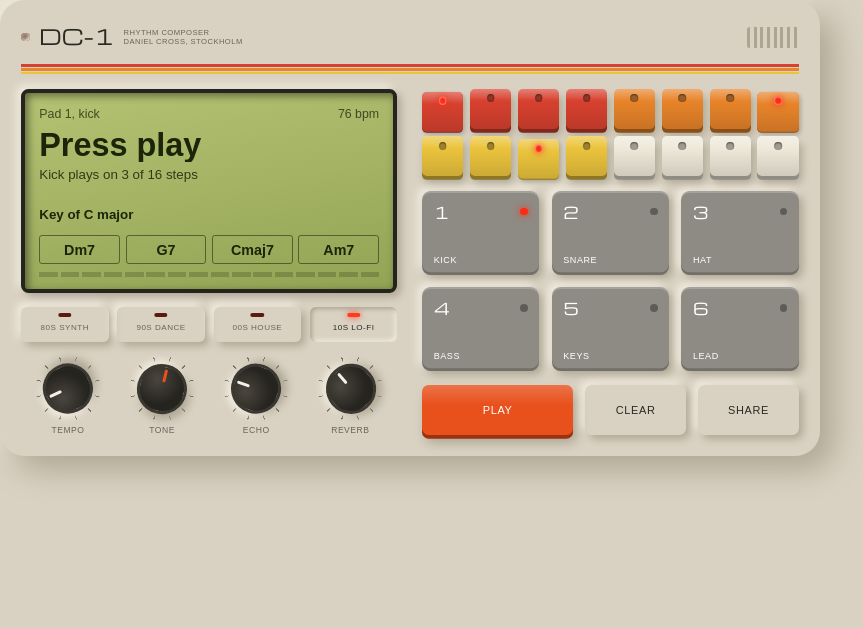
Test case: tapping a chord opens the chord tray with plain chords from the key
The width and height of the screenshot is (863, 628).
Click the button "G7" at (166, 250), box top-left (126, 235), bottom-right (206, 264)
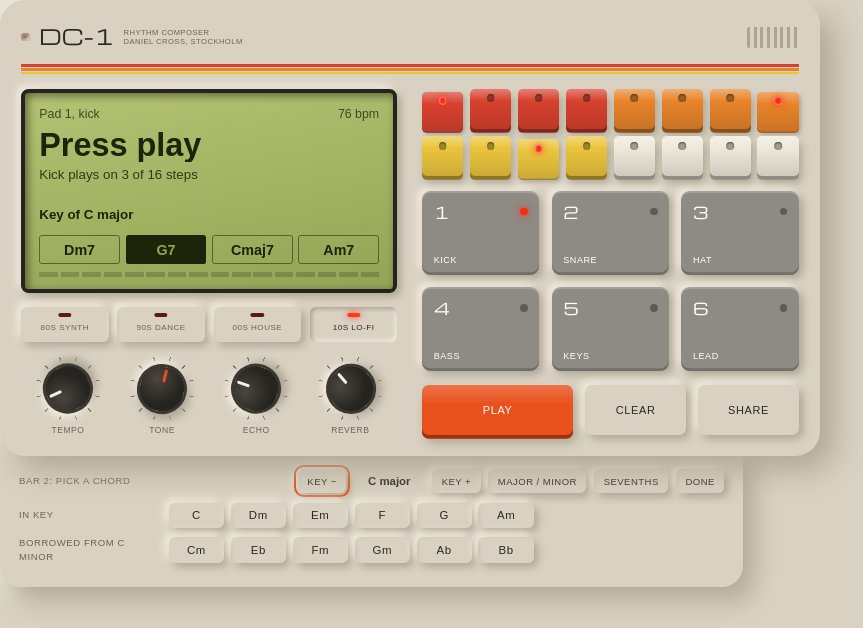
Expected: the text "Bar 2: pick a chord" is shown, top-left (19, 474), bottom-right (130, 488)
Expected: the button "C" is shown, top-left (169, 503), bottom-right (224, 528)
Expected: the button "Dm" is shown, top-left (231, 503), bottom-right (286, 528)
